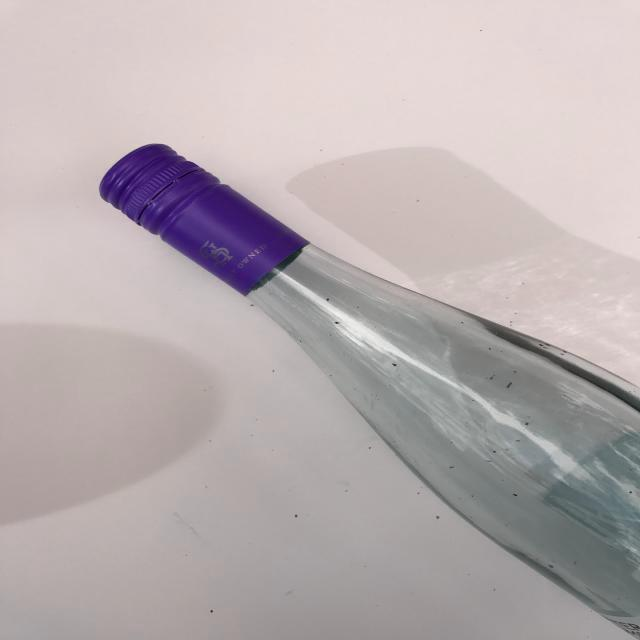glass: (85, 133, 639, 640)
